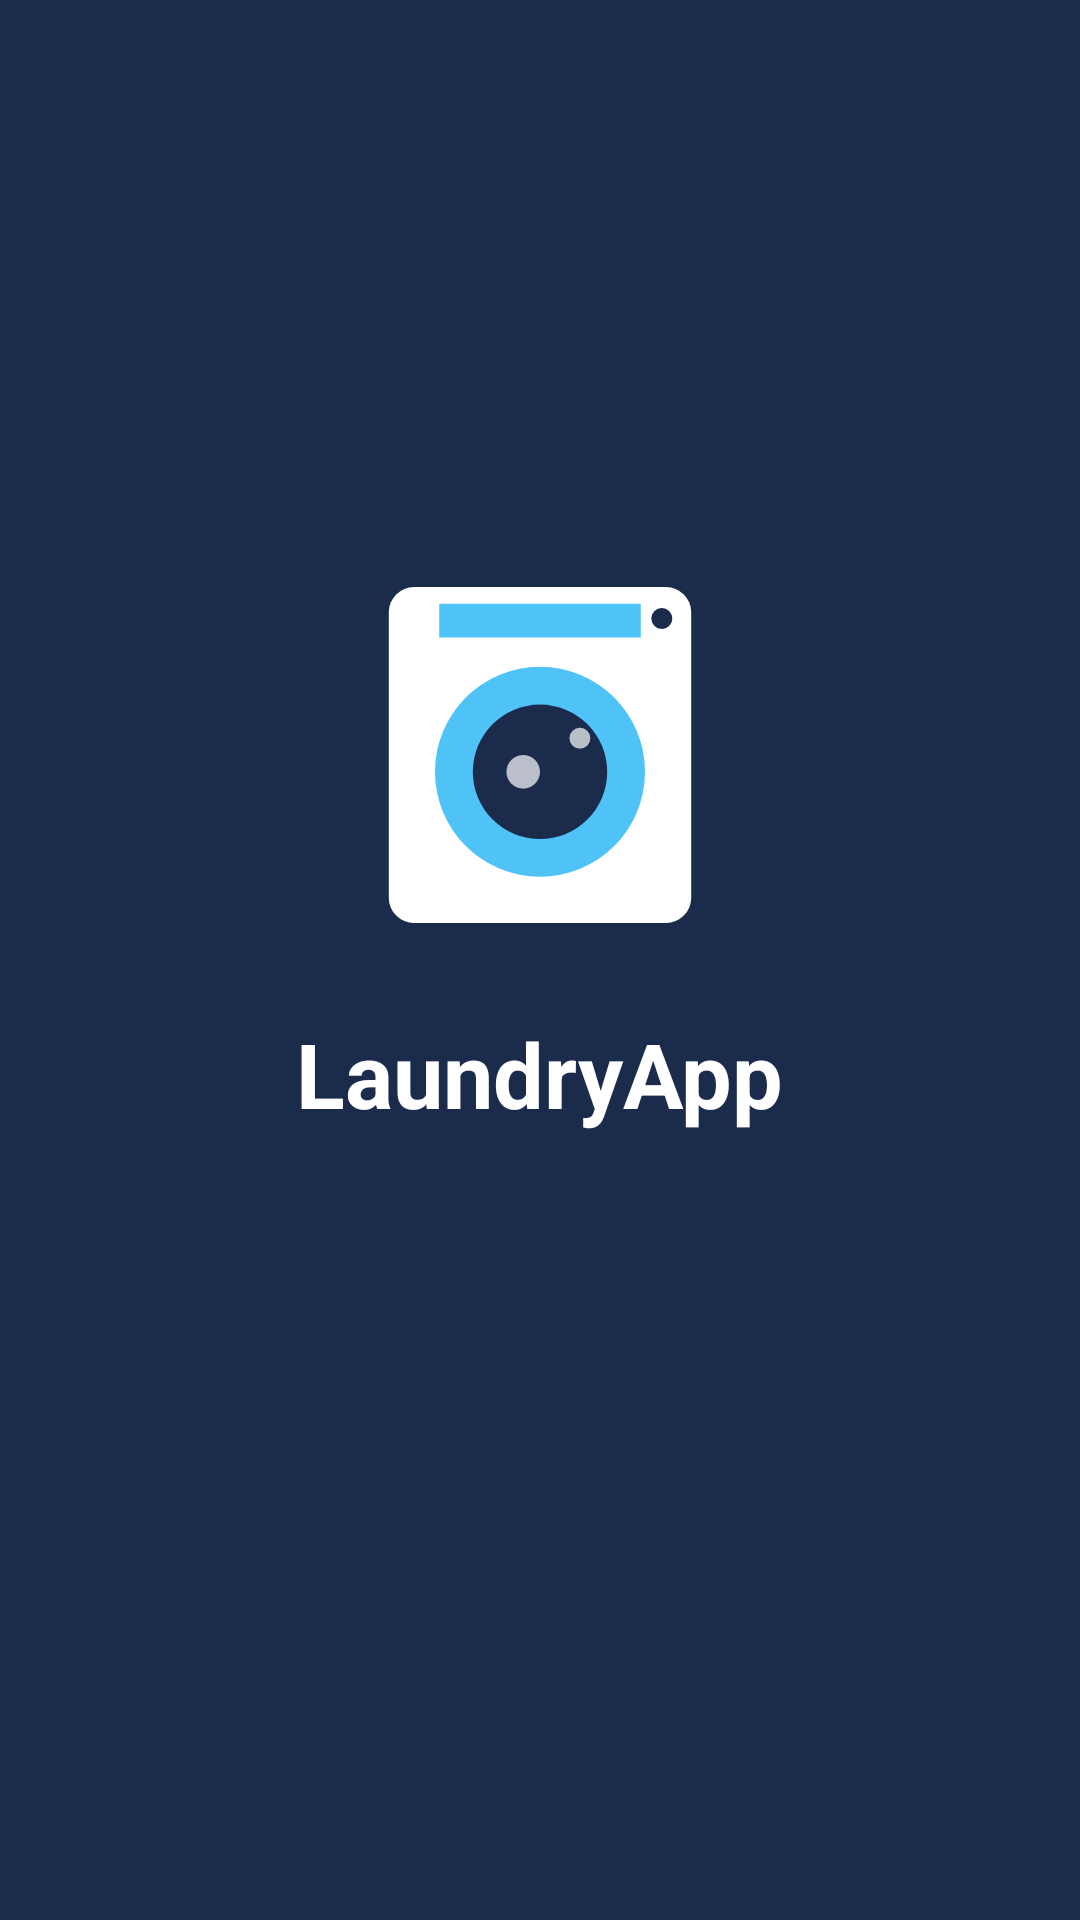

Where icons sit on this 1080 × 1920 app screen, as region(x1, y1, x2, y2):
ill washing machine: region(388, 587, 692, 923)
